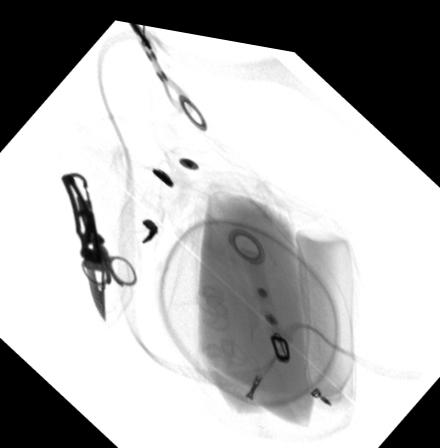Knife: (58, 170, 105, 316)
Scissors: (77, 192, 138, 283)
